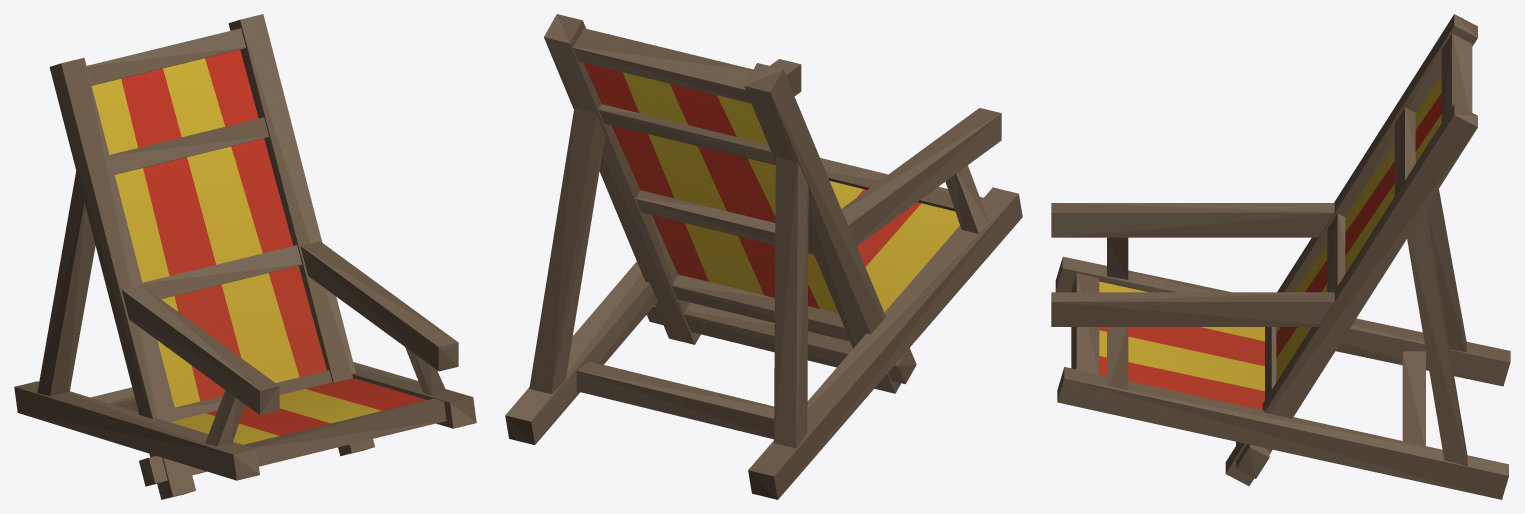
Rendered from Chair_2.fbx.
3 renders of one model, left to right at view 1: azimuth 30°, elevation 25°; view 2: azimuth 150°, elevation 25°; view 3: azimuth 270°, elevation 25°, orthographic. The views are drawn at different scales.
Visible parts, largest first — view 1: polySurface177; view 2: polySurface177; view 3: polySurface177.
Boxes of the visible parts, bbox=[...] form: polySurface177: bbox=[14, 14, 476, 499]; polySurface177: bbox=[505, 14, 1022, 499]; polySurface177: bbox=[1051, 14, 1510, 499].
Bounding box in the file's own units: 155 × 226 × 251.
